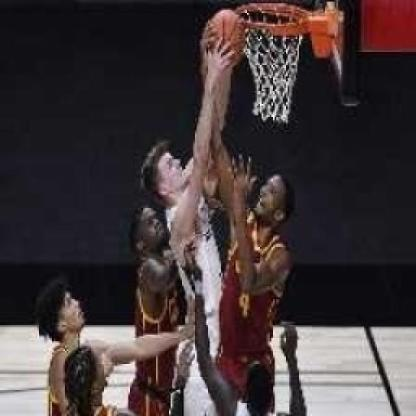basketball: (211, 5, 242, 55)
